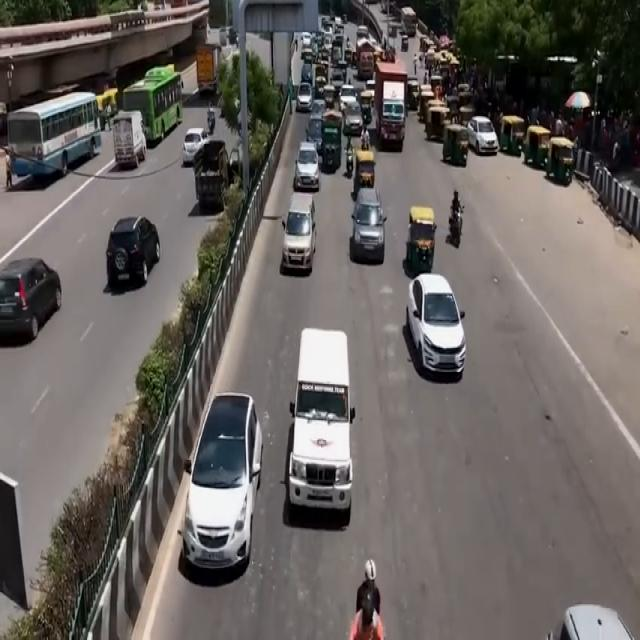BUS: (9, 92, 105, 192), (122, 66, 183, 138)
TRUCK: (287, 322, 358, 529), (372, 62, 406, 149)
